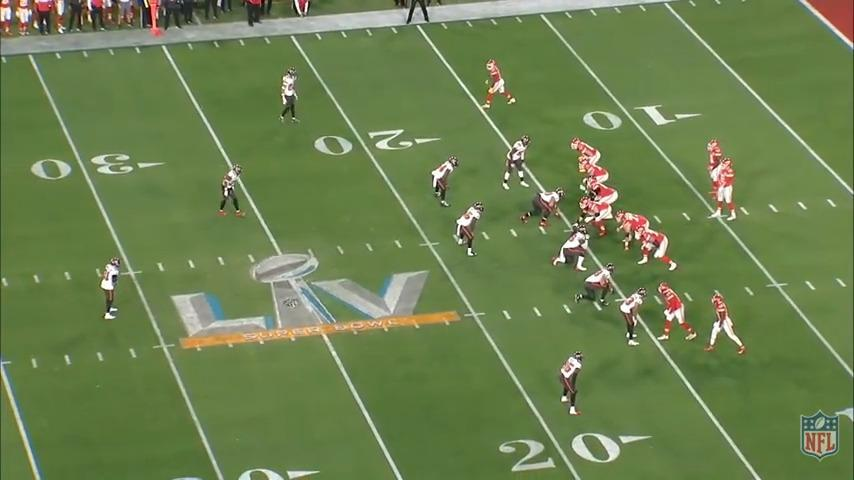player: (705, 290, 750, 358), (656, 280, 696, 343), (549, 224, 594, 275), (478, 58, 517, 116), (570, 261, 617, 309), (636, 226, 681, 274), (712, 158, 743, 224), (522, 189, 568, 232), (621, 287, 652, 350), (559, 350, 587, 419), (217, 160, 248, 221), (503, 134, 533, 192), (616, 209, 654, 253), (98, 256, 122, 325), (456, 200, 484, 258), (433, 154, 462, 210), (574, 196, 610, 238), (278, 65, 302, 128), (584, 178, 621, 218), (705, 136, 726, 198), (570, 136, 601, 176), (581, 161, 611, 189)
ref: (406, 0, 435, 26)
